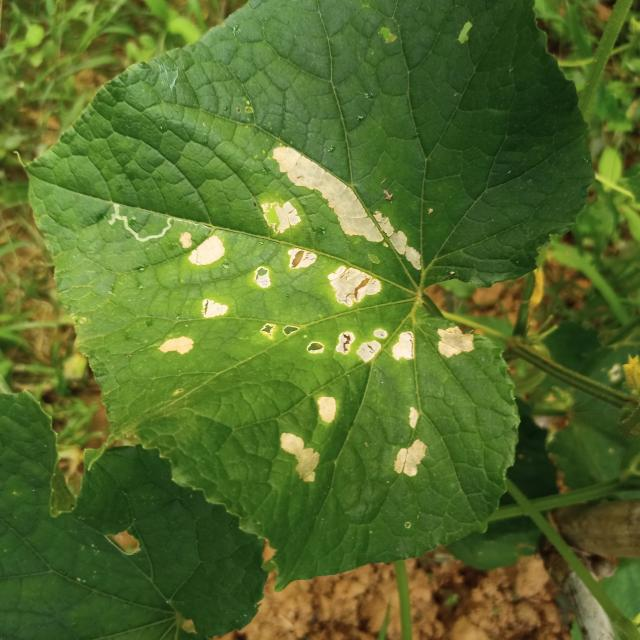disease_cucumber: (250, 143, 425, 311), (254, 311, 477, 376), (158, 232, 232, 356), (276, 392, 344, 489), (388, 404, 431, 489)
